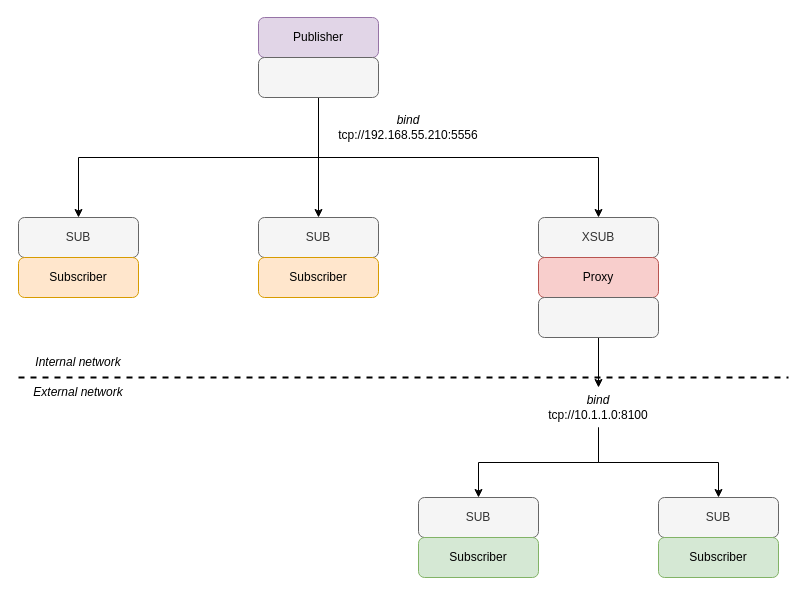
Image size: 807x595. Some labels were removed from this diagram. The box of each missing label's shape, as (x1, y1, x2, y2) in pixels:
PUB: (258, 56, 378, 98)
XPUB: (538, 296, 658, 338)
